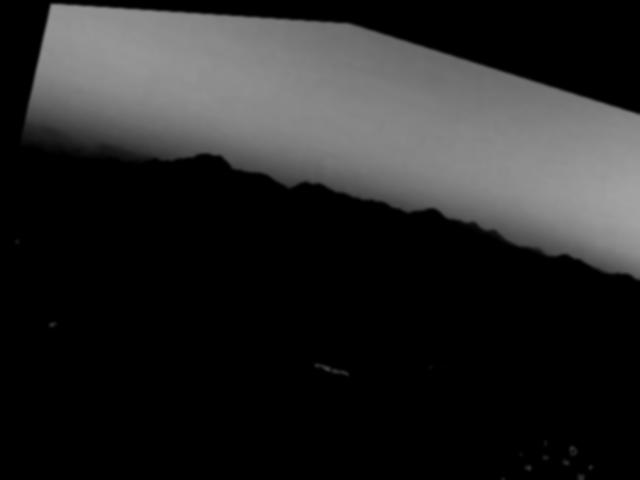hedef: (302, 347, 351, 384)
